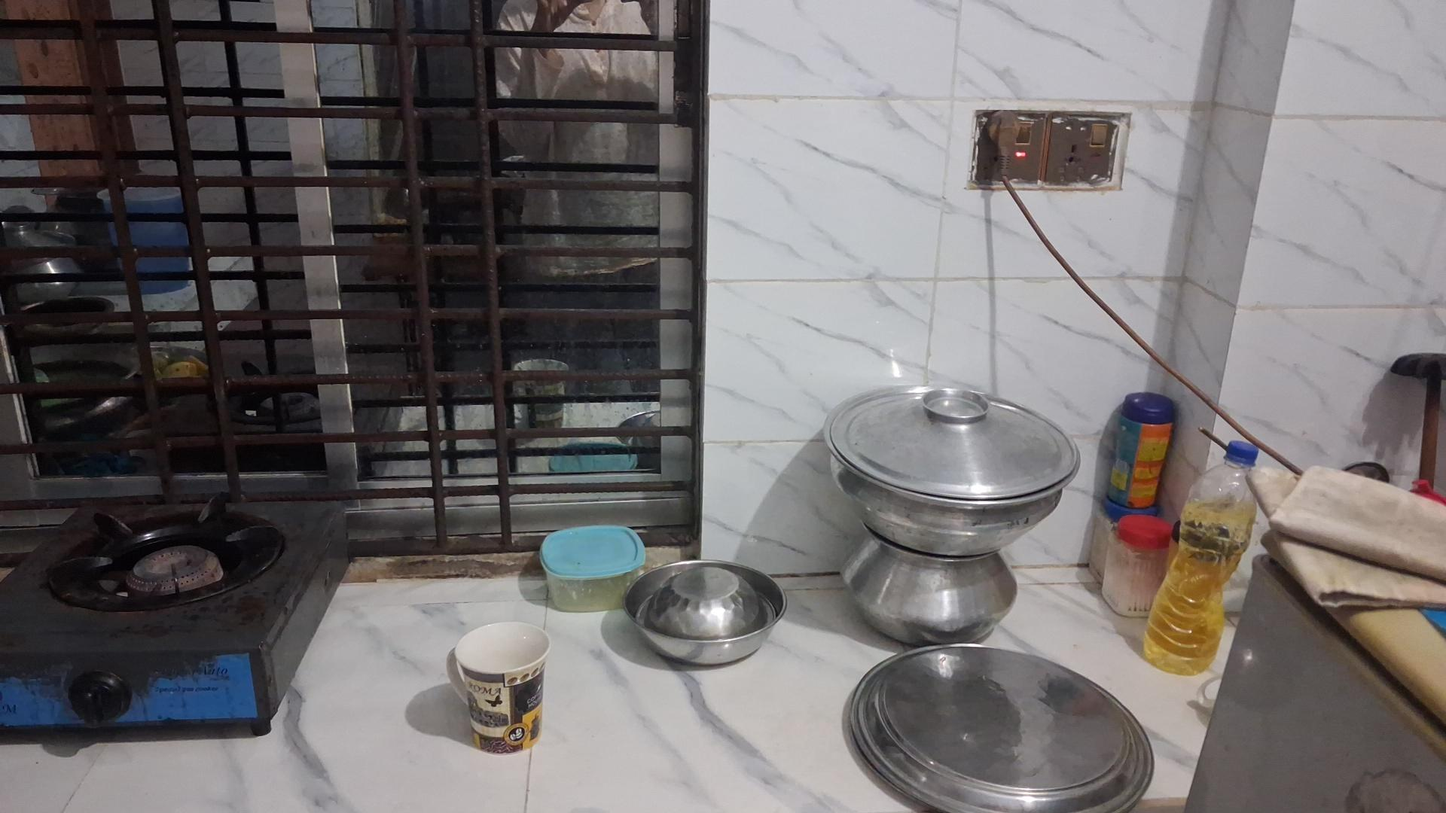Bottle: (1140, 440, 1260, 677)
Bowl: (622, 559, 786, 667)
Cup: (445, 621, 550, 755)
Jar: (539, 524, 647, 612), (1107, 392, 1180, 507), (1097, 517, 1166, 611)
Plate: (836, 643, 1163, 810)
Pot: (819, 389, 1084, 563), (841, 532, 1023, 638)
